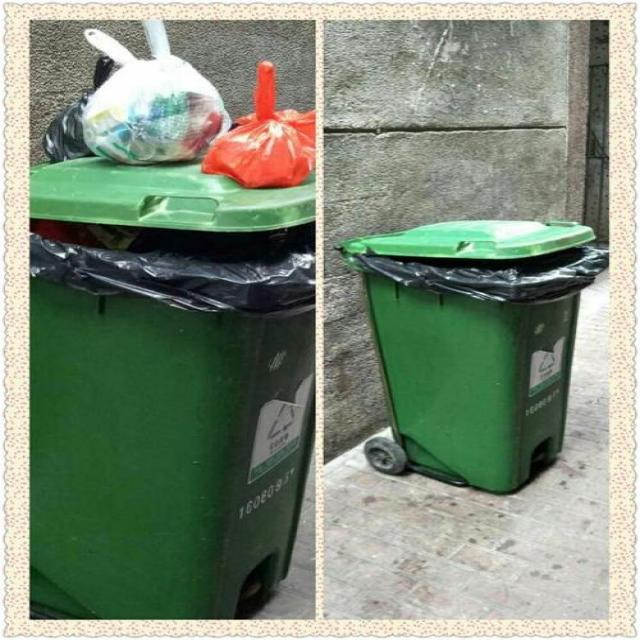garbage_bin: (337, 219, 606, 492)
overflow: (28, 18, 314, 616)
